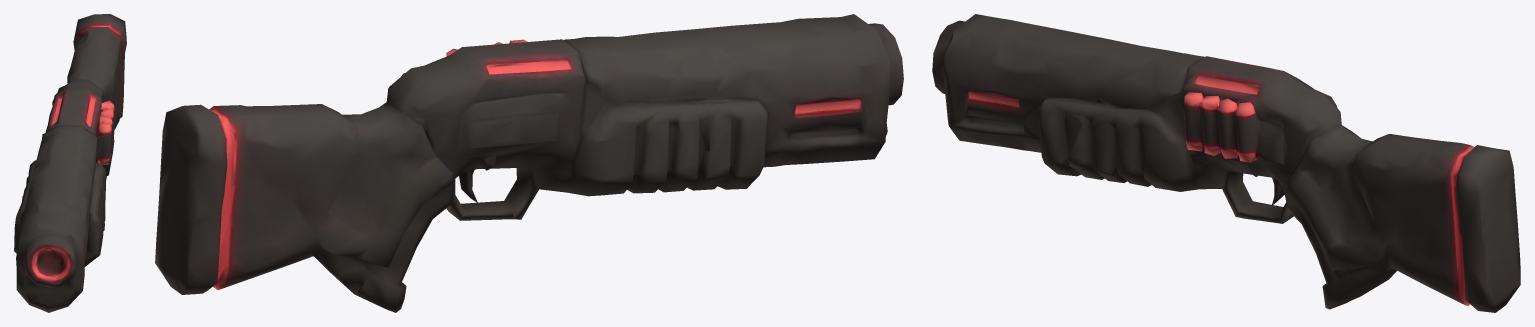
The model's file is scatter.glb.
The picture shows the model from 3 angles, left to right: view 1: azimuth 30°, elevation 25°; view 2: azimuth 150°, elevation 25°; view 3: azimuth 270°, elevation 25°; orthographic projection. The views are drawn at different scales.
Parts seen in each view (by area): view 1: scatter; view 2: scatter; view 3: scatter.
Part boxes in pixels (x1,y1,x2,y2): scatter: (14, 14, 126, 312); scatter: (155, 14, 903, 312); scatter: (932, 14, 1520, 312).
Bounding box in the file's own units: 0.6927 × 0.3487 × 0.8857.
1 material, 1 textured.
